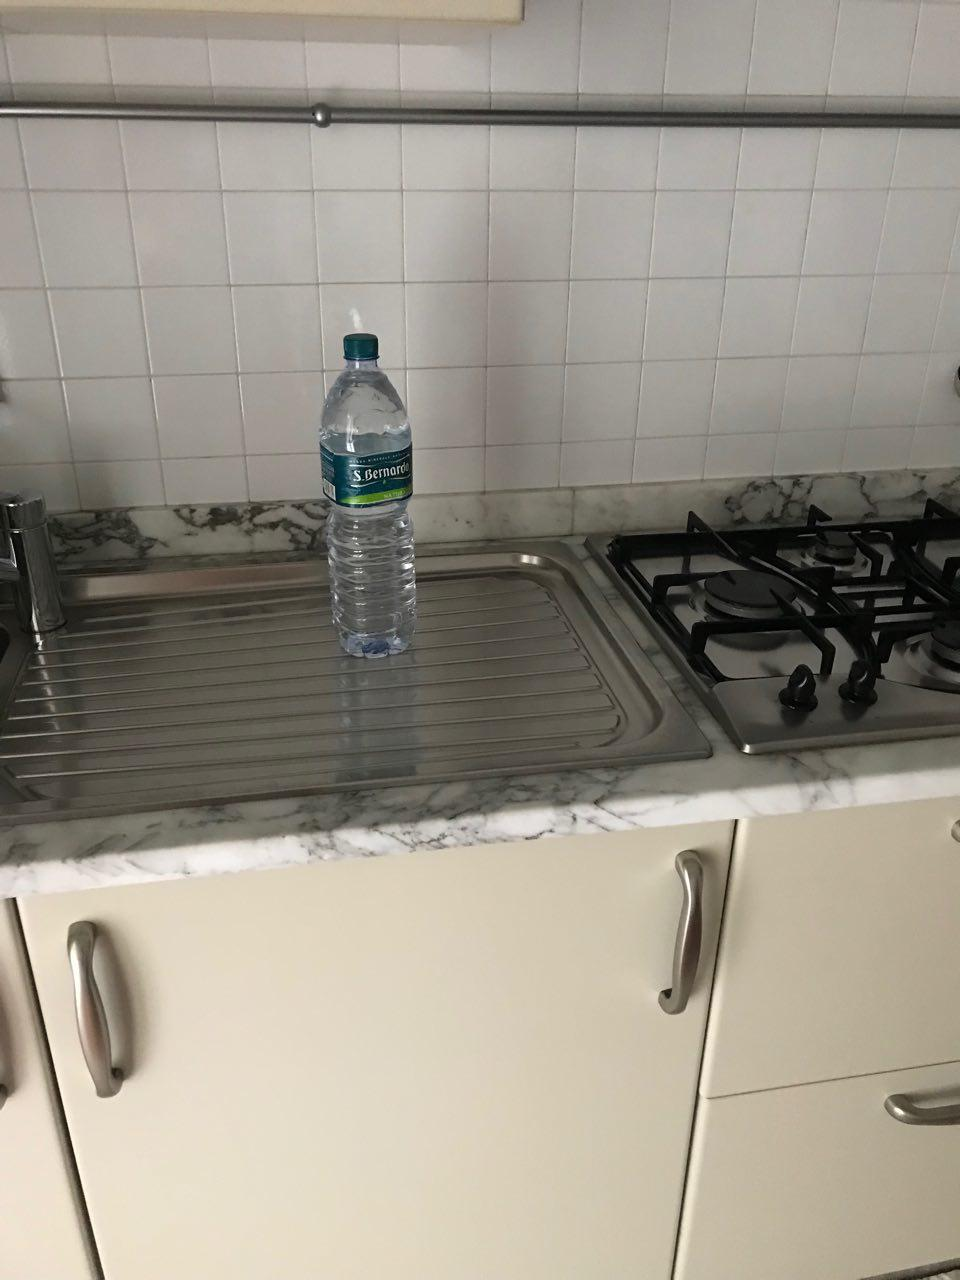san_bernardo: (319, 333, 416, 659)
